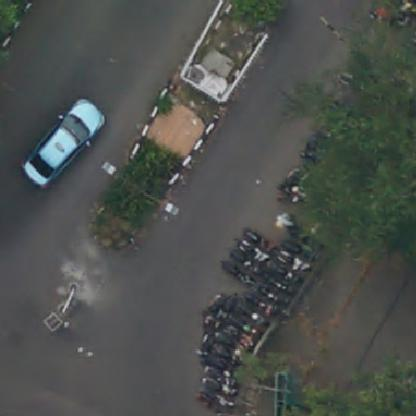car: (28, 96, 105, 186)
motorcycle: (284, 224, 328, 255), (275, 240, 311, 274), (244, 291, 282, 321), (274, 175, 304, 211), (199, 336, 236, 362), (238, 237, 267, 266), (200, 395, 241, 415), (224, 254, 249, 286), (271, 261, 303, 286), (195, 354, 234, 373), (228, 315, 255, 342), (261, 283, 289, 309), (241, 305, 270, 329), (234, 250, 260, 276), (243, 225, 271, 249), (204, 331, 240, 347), (194, 368, 232, 382), (207, 382, 241, 396), (270, 279, 296, 297), (219, 324, 243, 341)
